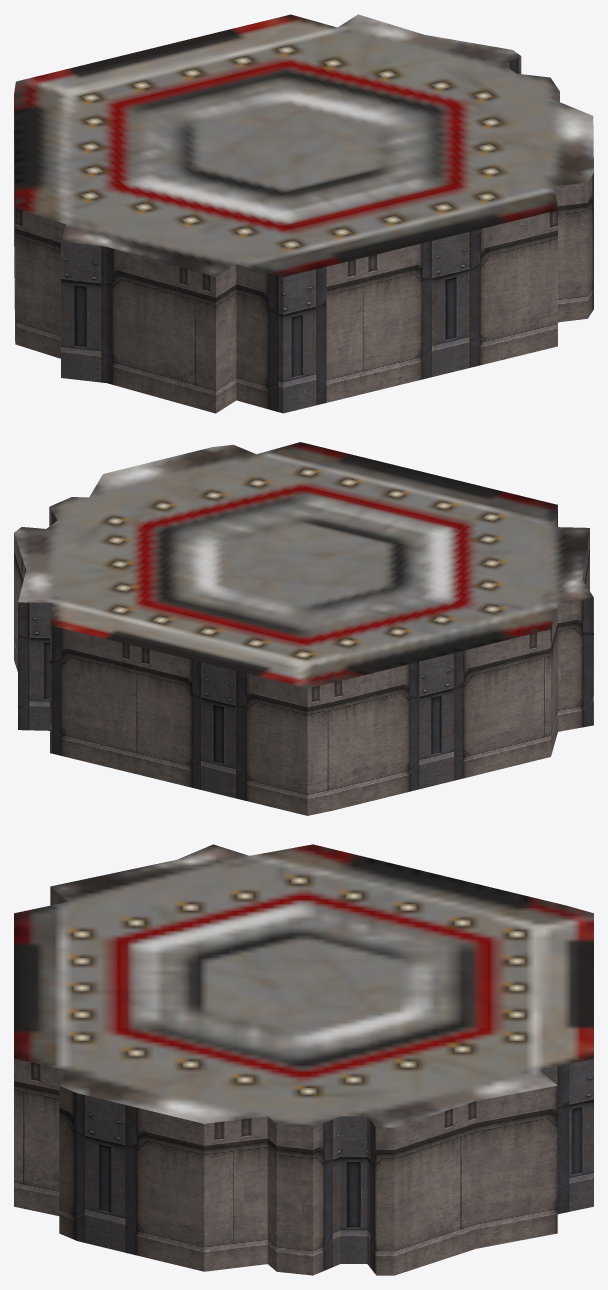
File: bsealed_hard_22.glb
The picture shows the model from 3 angles, top to bottom: view 1: azimuth 30°, elevation 25°; view 2: azimuth 150°, elevation 25°; view 3: azimuth 270°, elevation 25°; orthographic projection. The views are drawn at different scales.
Visible parts, largest first — view 1: buildings/saxarba/bsealed_hard/bsealed_hard_22; view 2: buildings/saxarba/bsealed_hard/bsealed_hard_22; view 3: buildings/saxarba/bsealed_hard/bsealed_hard_22.
Part boxes in pixels (box(x1,y1,x2,y2)): buildings/saxarba/bsealed_hard/bsealed_hard_22: box(14, 14, 593, 413); buildings/saxarba/bsealed_hard/bsealed_hard_22: box(14, 442, 593, 815); buildings/saxarba/bsealed_hard/bsealed_hard_22: box(14, 844, 593, 1275).
Size of the model in its own units: 74 by 18 by 64.
